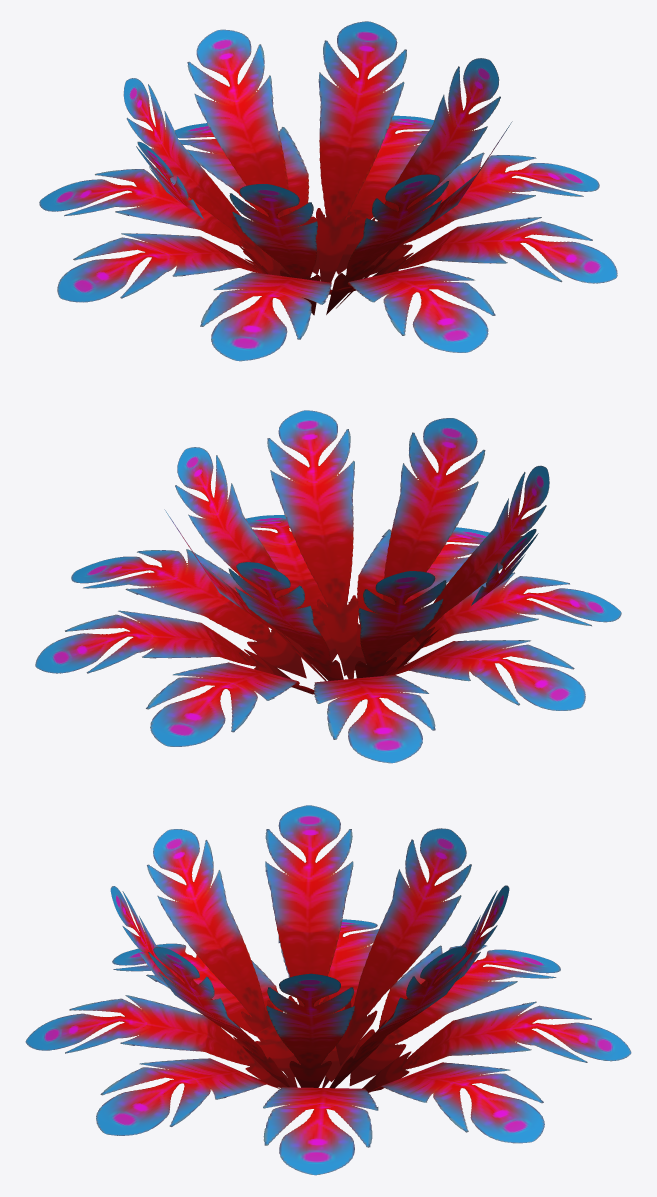
The model's file is Red_Bush_05a.FBX.
3 renders of one model, top to bottom at view 1: azimuth 30°, elevation 25°; view 2: azimuth 150°, elevation 25°; view 3: azimuth 270°, elevation 25°, orthographic.
Visible parts, largest first — view 1: Red_Bush_05a; view 2: Red_Bush_05a; view 3: Red_Bush_05a.
Part boxes in pixels (x1,y1,x2,y2): Red_Bush_05a: [39, 21, 617, 361]; Red_Bush_05a: [35, 410, 621, 763]; Red_Bush_05a: [25, 805, 631, 1175].
Bounding box in the file's own units: 170 × 62.14 × 170.
